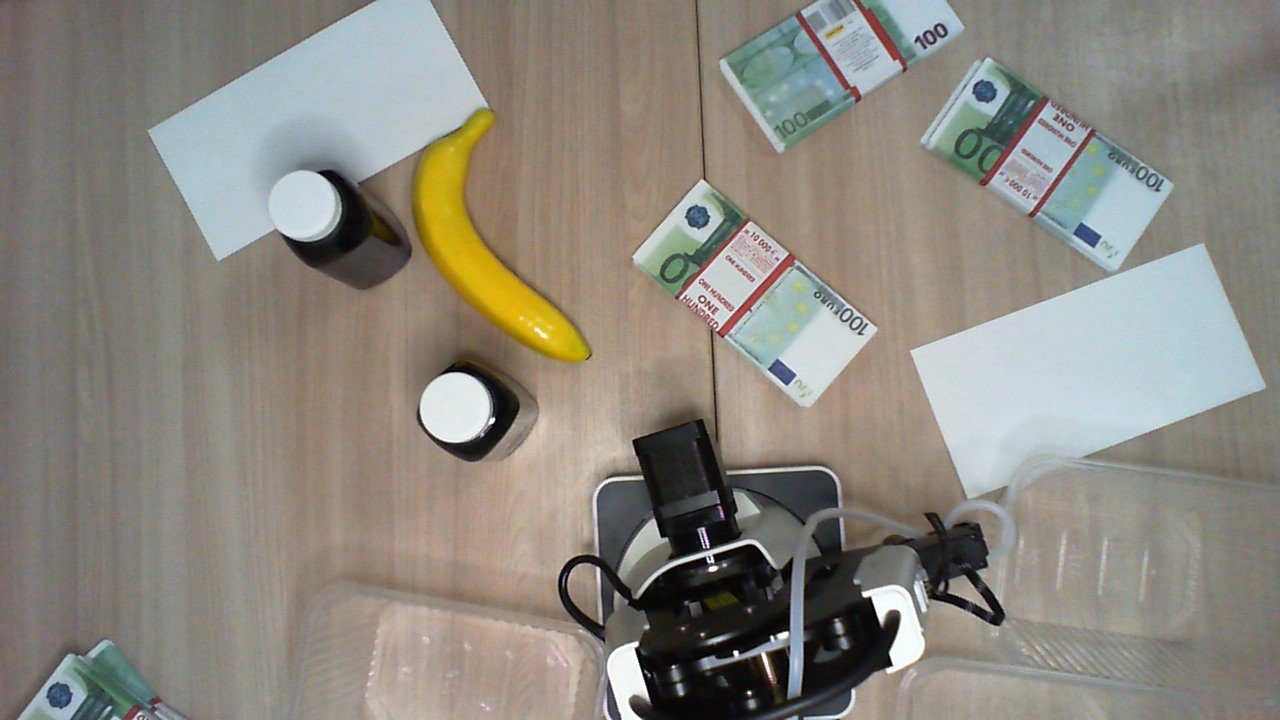banana: (408, 106, 601, 364)
bottle: (413, 362, 518, 470), (266, 167, 370, 270)
convert: (910, 240, 1269, 507), (153, 1, 502, 265)
money: (622, 177, 883, 409), (914, 54, 1180, 271), (719, 1, 965, 155), (18, 632, 208, 718)
